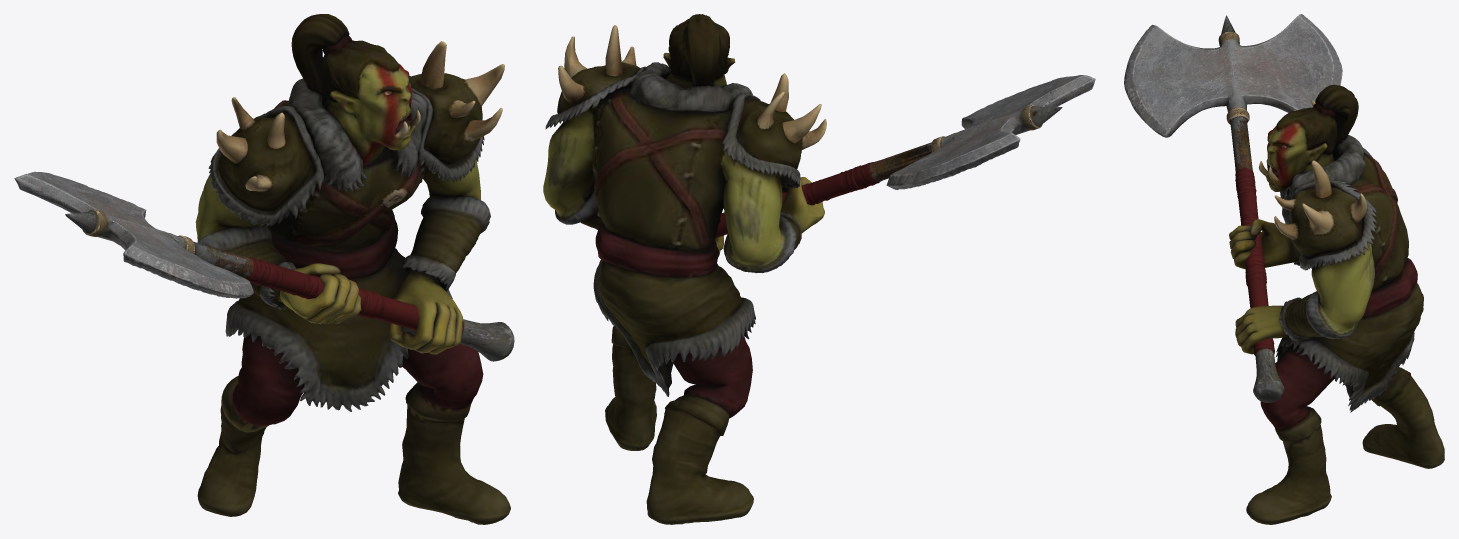
The model's file is MZ4250 - Orc Male Warrior_red_greataxe.glb.
3 views of the same model, side by side, from view 1: azimuth 30°, elevation 25°; view 2: azimuth 150°, elevation 25°; view 3: azimuth 270°, elevation 25° (orthographic). The views are drawn at different scales.
Visible parts, largest first — view 1: Great Axe.002; view 2: Great Axe.002; view 3: Great Axe.002.
Part boxes in pixels (x1,y1,x2,y2): Great Axe.002: [14, 14, 514, 524]; Great Axe.002: [543, 14, 1095, 524]; Great Axe.002: [1124, 14, 1444, 524].
Size of the model in its own units: 40.29 by 39.09 by 29.32.
Materials: 2 (2 with a texture image).
